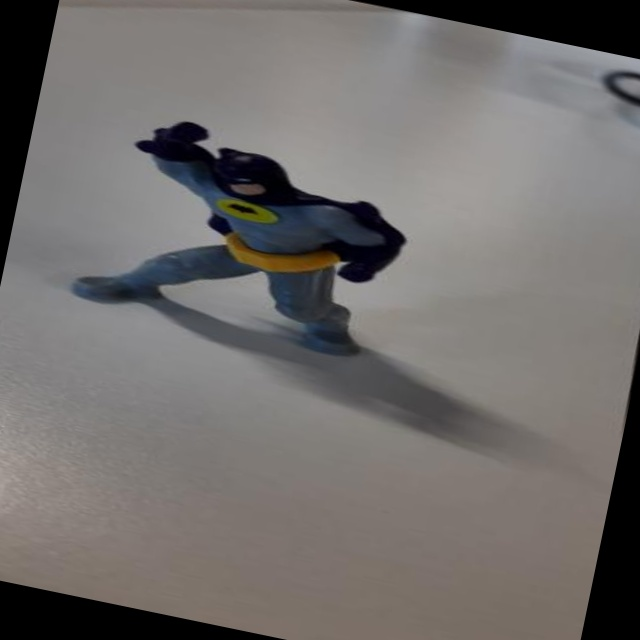Batman: (51, 86, 506, 428)
